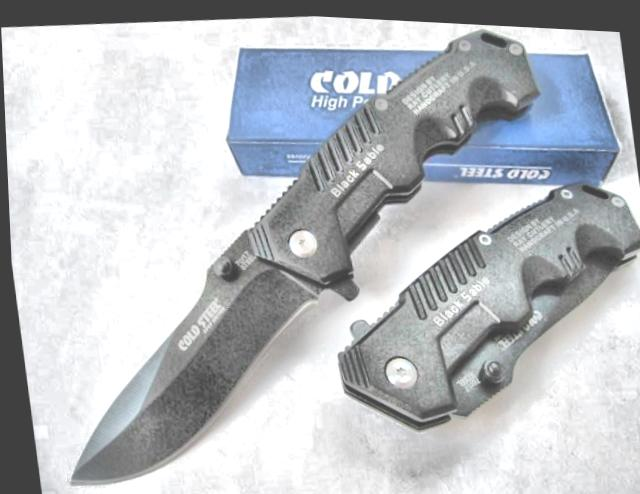knife: (25, 210, 346, 494)
